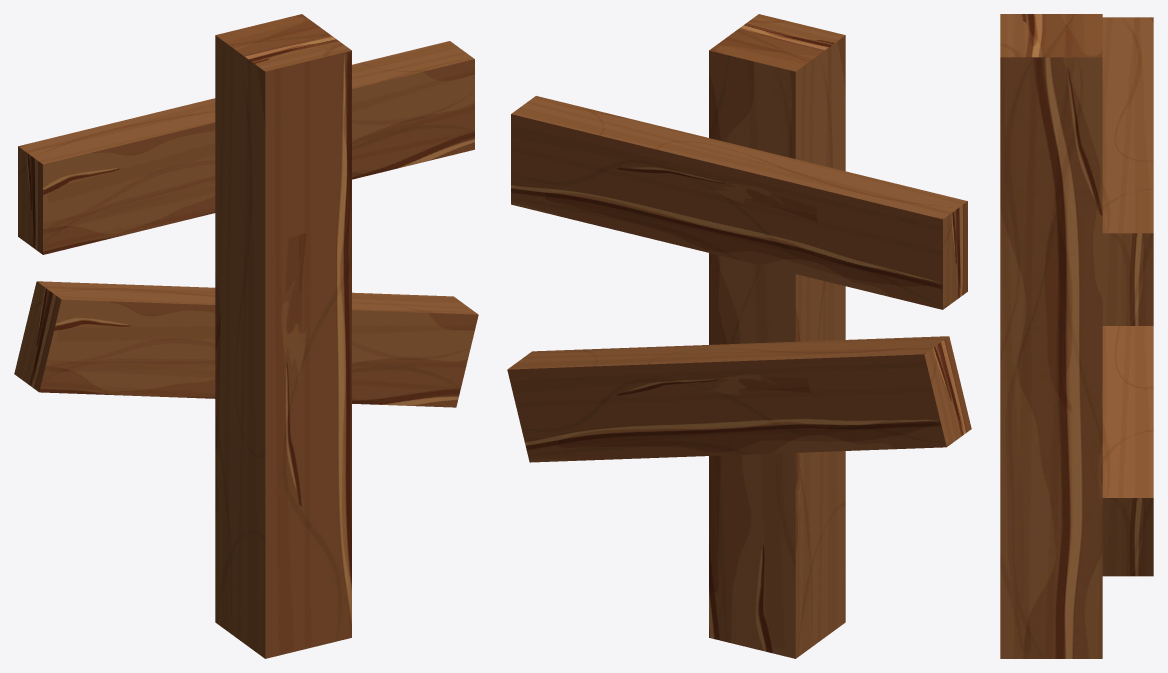
Rendered from Fence.fbx.
The picture shows the model from 3 angles, left to right: view 1: azimuth 30°, elevation 25°; view 2: azimuth 150°, elevation 25°; view 3: azimuth 270°, elevation 25°; orthographic projection. The views are drawn at different scales.
Parts seen in each view (by area): view 1: Pillar, Wood Plank 1, Wood Plank 2; view 2: Pillar, Wood Plank 1, Wood Plank 2; view 3: Pillar, Wood Plank 1, Wood Plank 2.
Boxes of the visible parts, box(x1,y1,x2,y2) form: Pillar: box(215, 14, 351, 658); Wood Plank 1: box(18, 41, 474, 254); Wood Plank 2: box(14, 281, 478, 407); Pillar: box(709, 14, 845, 658); Wood Plank 1: box(511, 96, 967, 309); Wood Plank 2: box(507, 336, 971, 462); Pillar: box(1000, 14, 1102, 658); Wood Plank 1: box(1102, 17, 1153, 325); Wood Plank 2: box(1102, 326, 1153, 576).
Size of the model in its own units: 1016 by 1297 by 300.
